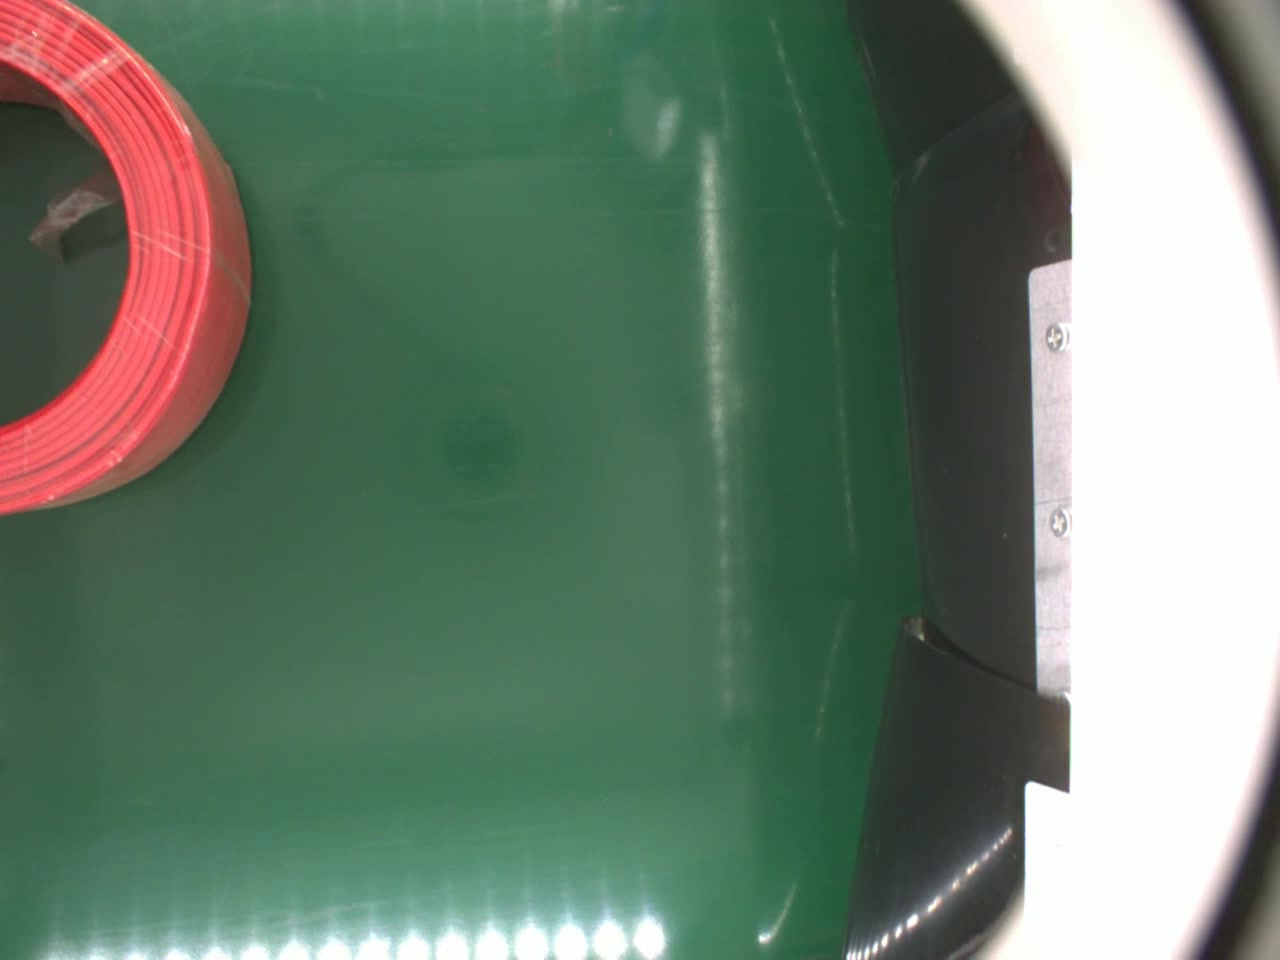red: (0, 2, 257, 514)
